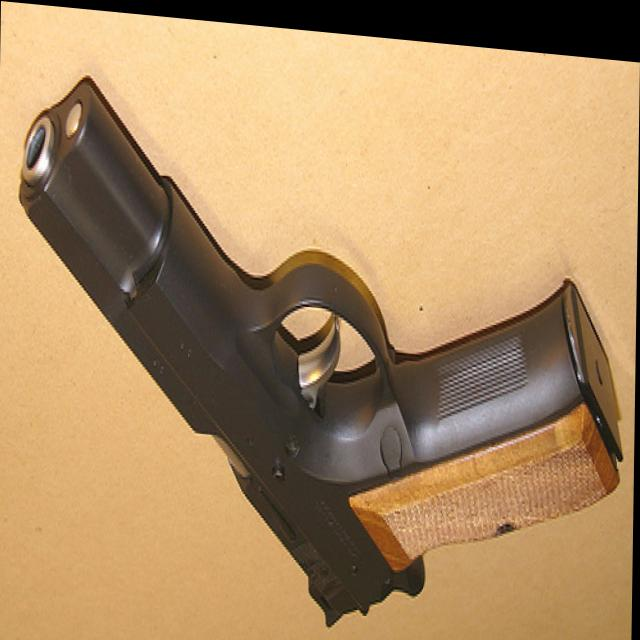handgun: (15, 82, 629, 640)
